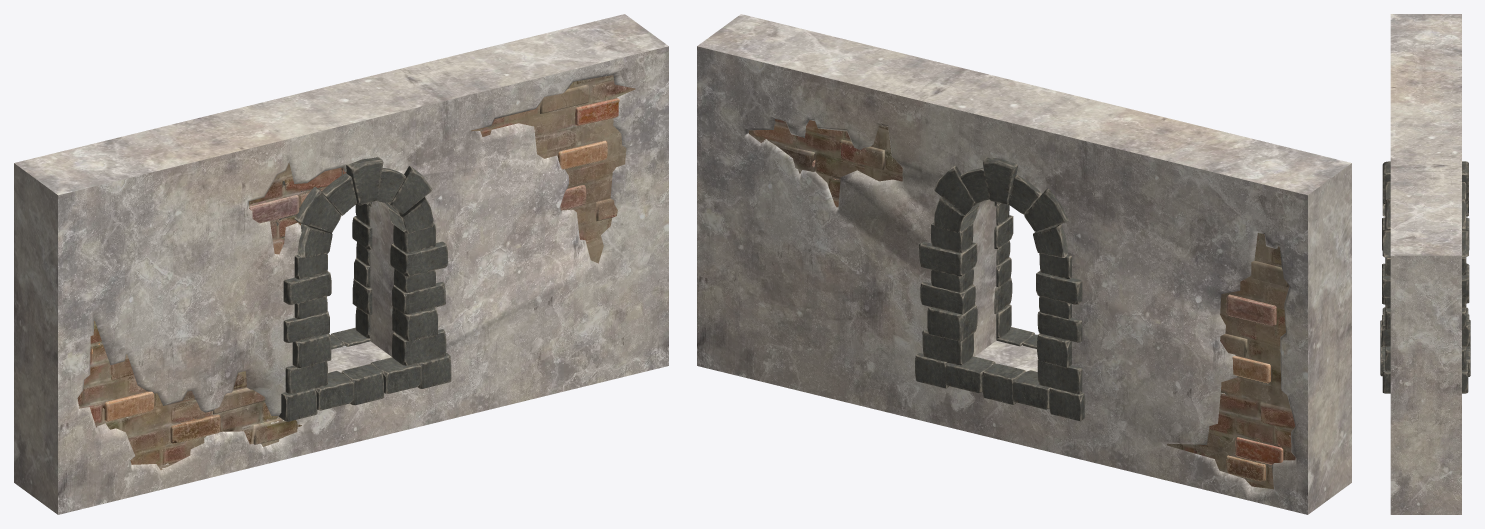
The picture shows the model from 3 angles, left to right: view 1: azimuth 30°, elevation 25°; view 2: azimuth 150°, elevation 25°; view 3: azimuth 270°, elevation 25°; orthographic projection. The views are drawn at different scales.
Visible parts, largest first — view 1: SM_Human_Ruins_Window_01v2_LOD0; view 2: SM_Human_Ruins_Window_01v2_LOD0; view 3: SM_Human_Ruins_Window_01v2_LOD0.
Part boxes in pixels (left/top/right/bottom): SM_Human_Ruins_Window_01v2_LOD0: left=14, top=14, right=668, bottom=514; SM_Human_Ruins_Window_01v2_LOD0: left=697, top=14, right=1351, bottom=514; SM_Human_Ruins_Window_01v2_LOD0: left=1380, top=14, right=1470, bottom=514.
Size of the model in its own units: 4 by 2 by 0.6303.
Materials: 4 (4 with a texture image).
